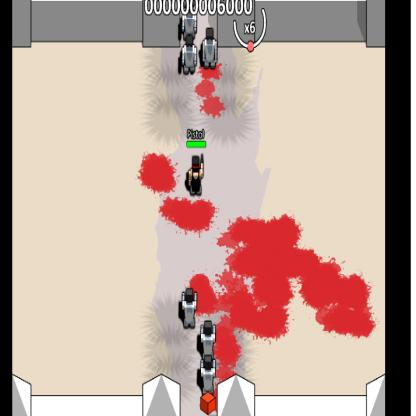agent: (188, 156, 204, 196)
jombie: (181, 286, 198, 328), (202, 27, 218, 68), (201, 355, 217, 392), (200, 321, 216, 356), (183, 36, 196, 76), (181, 8, 199, 34)
